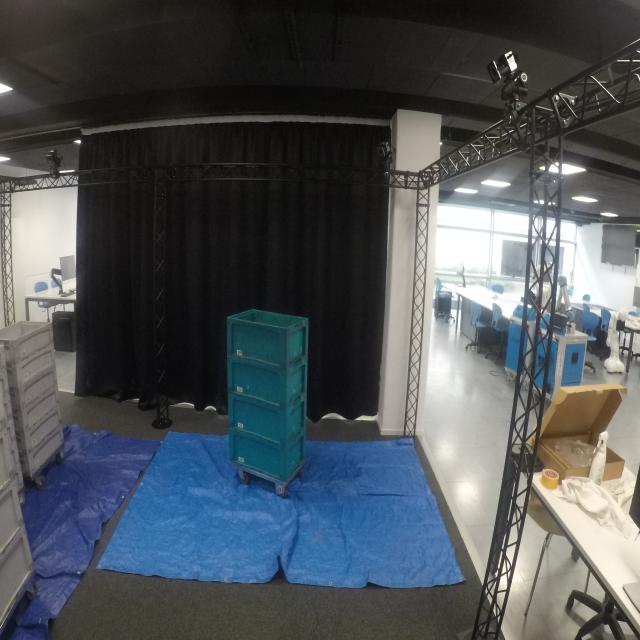BoxB4: (222, 304, 309, 367), (226, 358, 309, 404), (228, 396, 308, 440)
